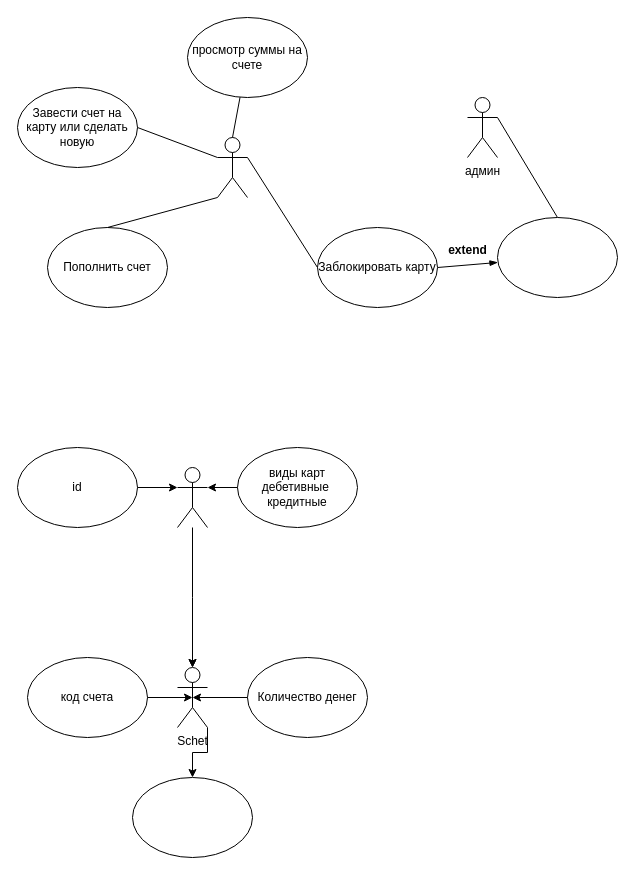
This 635x875 diagram has some shape labels left out. The shapes that lost their labels are listed below. From the top down, each one's centre as x and y in pixels, then its label:
the point at 232,167: пользователь
the point at 557,257: поиск карт по id, имени, счету
the point at 192,497: Kurt
the point at 192,817: текущий счет/ кридитный счет
